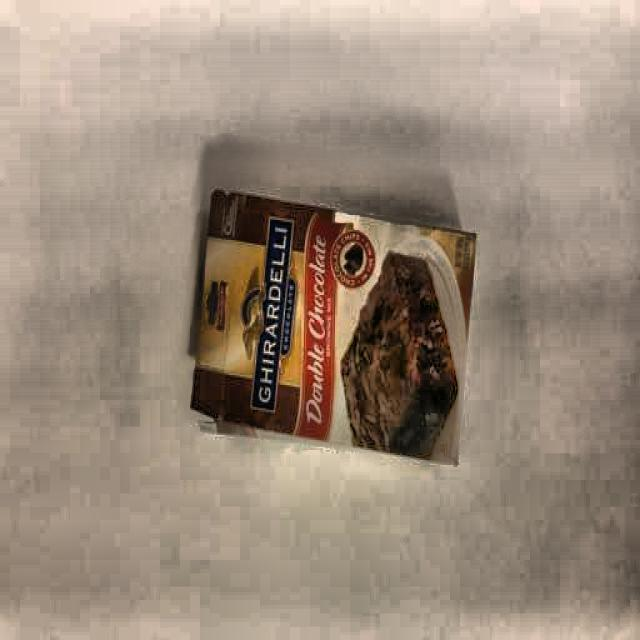paper: (188, 183, 476, 474)
